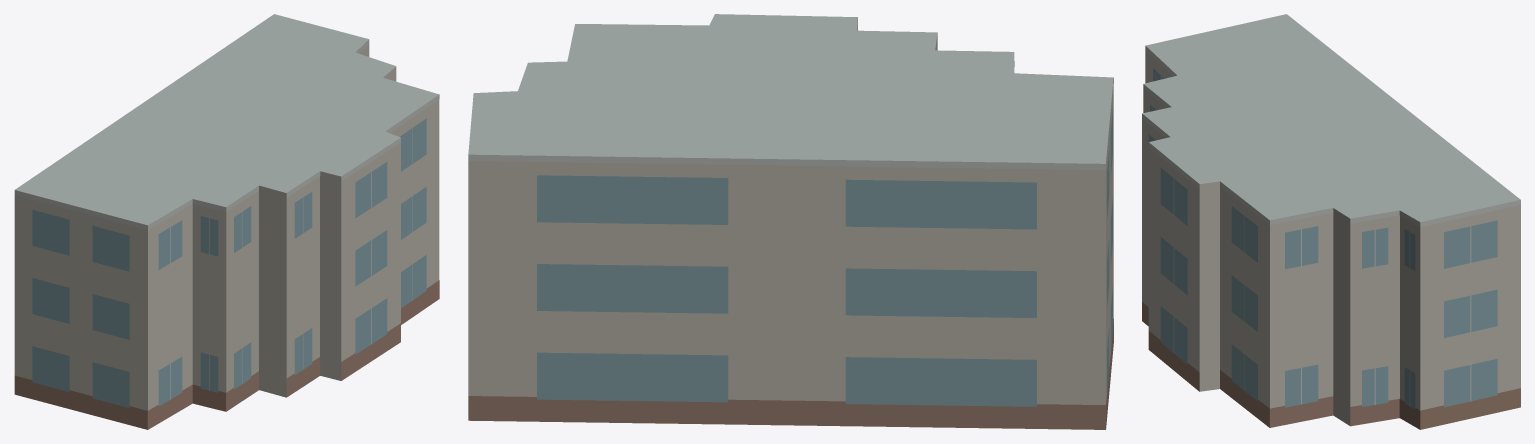
The model's file is survey-upis-32580348.glb.
3 views of the same model, side by side, from view 1: azimuth 30°, elevation 25°; view 2: azimuth 150°, elevation 25°; view 3: azimuth 270°, elevation 25° (orthographic). The views are drawn at different scales.
Visible parts, largest first — view 1: survey-upis-32580348.tmp; view 2: survey-upis-32580348.tmp; view 3: survey-upis-32580348.tmp.
Boxes of the visible parts, box(x1,y1,x2,y2) form: survey-upis-32580348.tmp: box(14, 14, 439, 429); survey-upis-32580348.tmp: box(468, 14, 1113, 429); survey-upis-32580348.tmp: box(1142, 14, 1520, 429).
Size of the model in its own units: 21.95 by 10.2 by 16.87.
